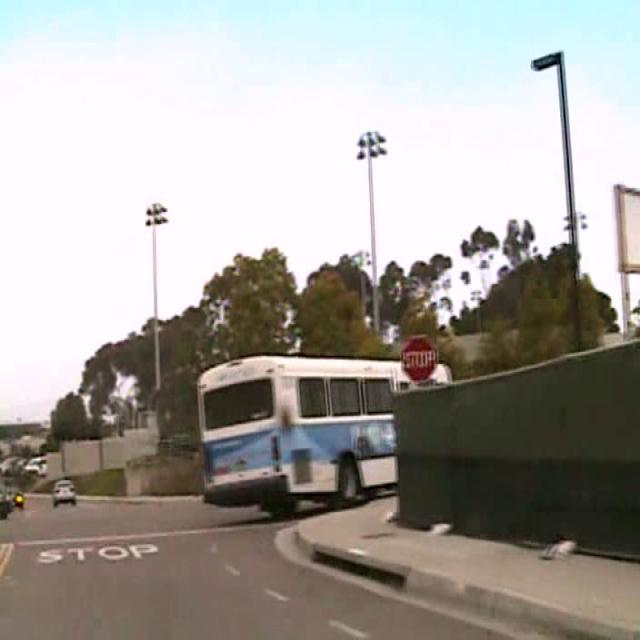stop_sign: (401, 332, 437, 383)
